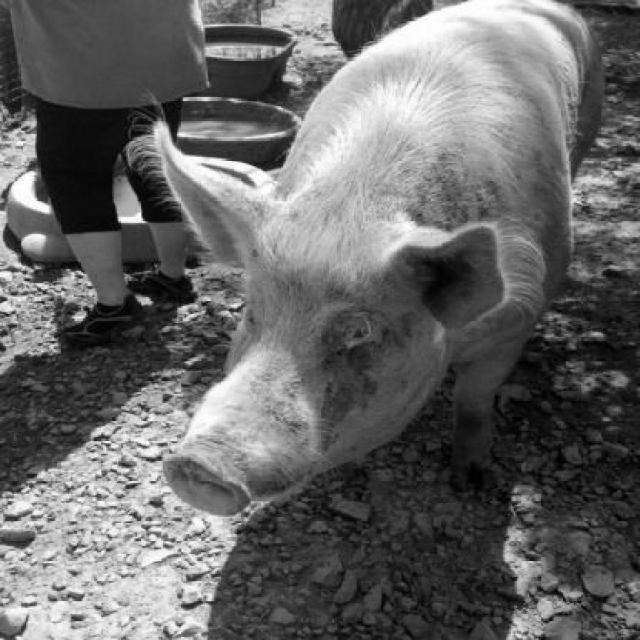Boar: (123, 0, 607, 518)
